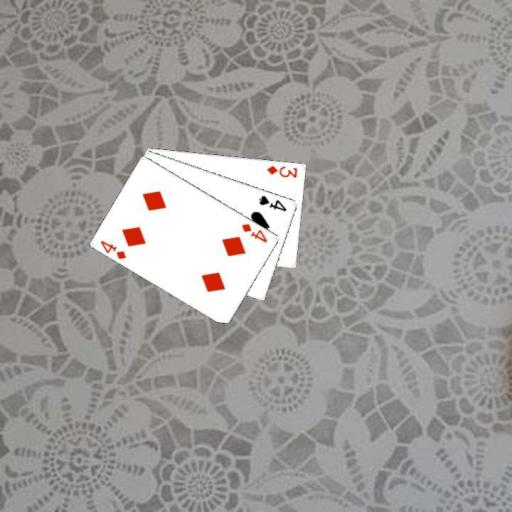3D: (264, 162, 299, 179)
4D: (97, 237, 128, 261), (239, 220, 269, 244)
4S: (256, 192, 288, 213)
